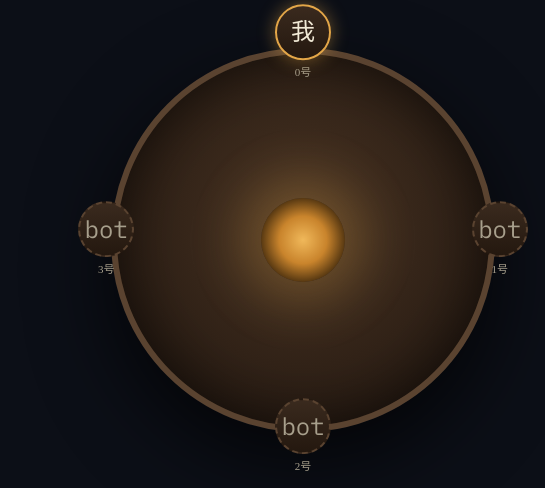
Scenario: SeatRing（规格 §5 第 2 步） › 「我自己」已在 0 号：其它座位菜单里禁用并标注
Click the button with aria-label "入座 3号".
click(106, 240)  # box top-left (70, 201), bottom-right (142, 279)
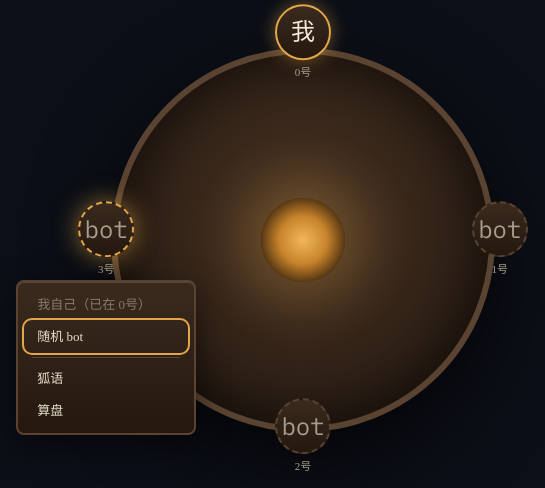
Expected: the menu item "我自己（已在 0号）" is disabled, top-left (26, 290), bottom-right (186, 320)
